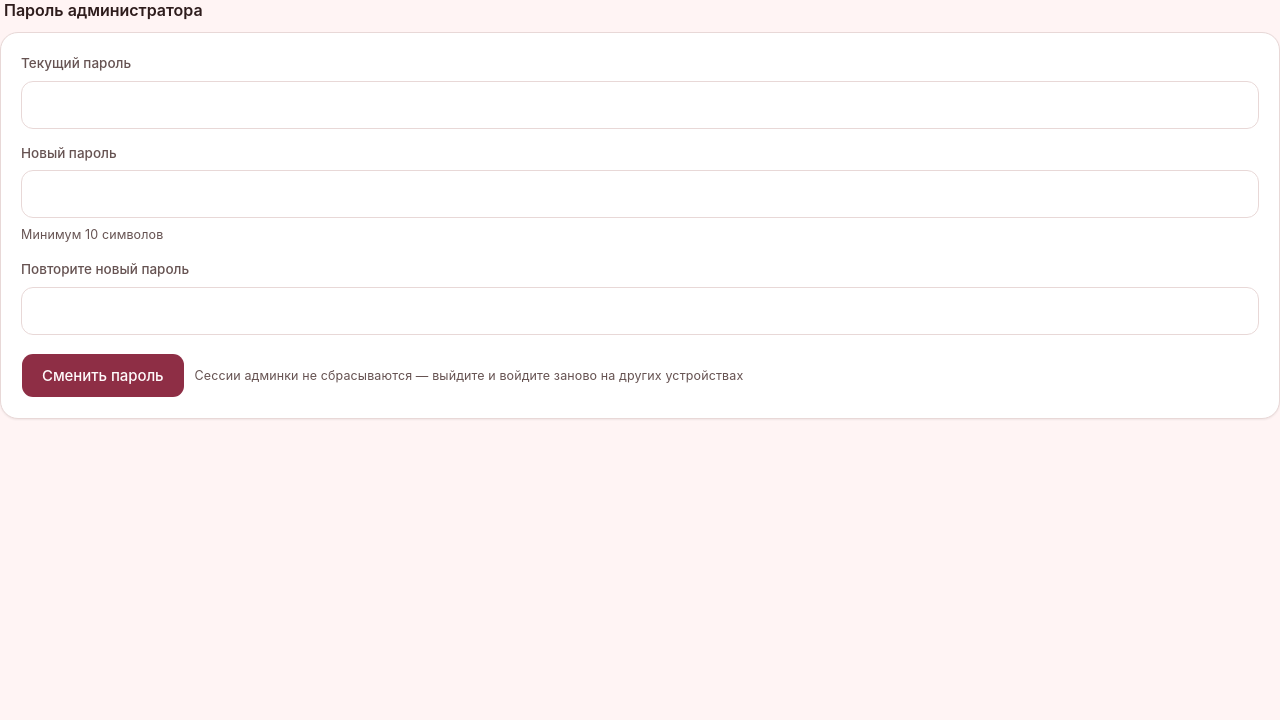
Test case: AdminPasswordForm › sends both passwords and confirms with a toast
Step 1. Type "the-current-one" into the password field labelled "Текущий пароль" → (640, 104), box [21,80,1259,128]
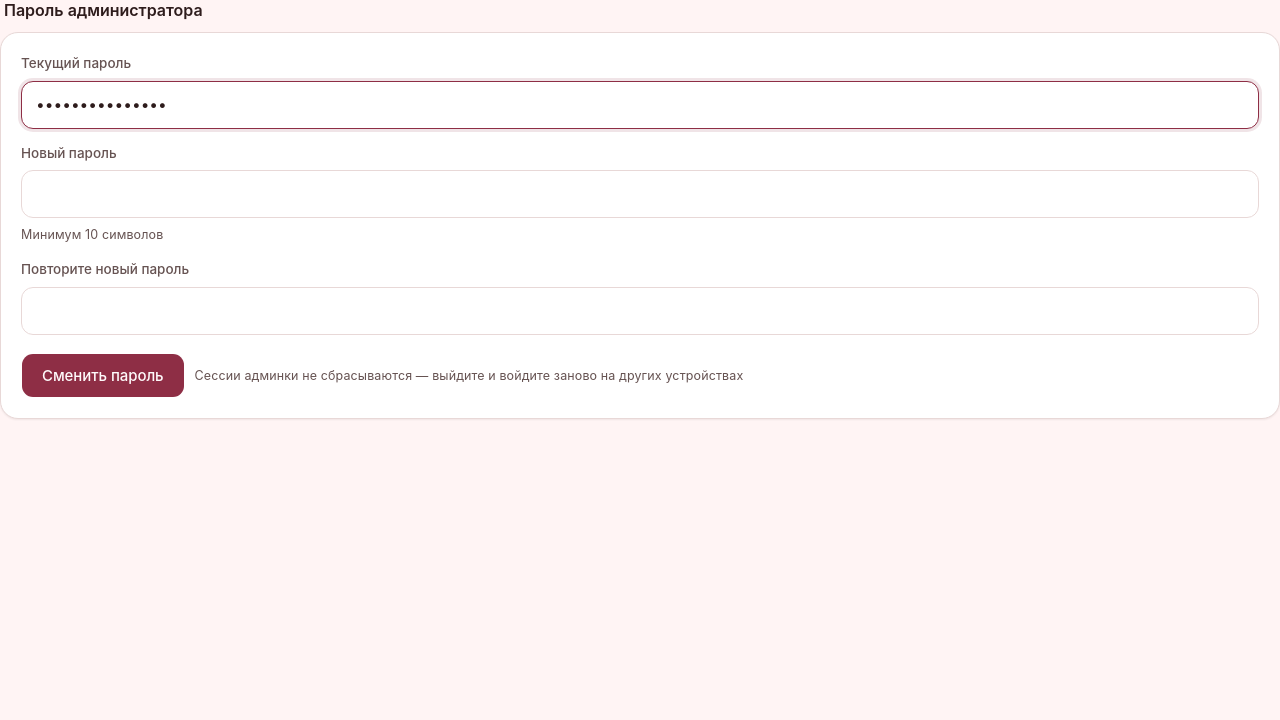
Step 2. Type "a-brand-new-password" into the password field labelled "Новый пароль" → (640, 194), box [21,170,1259,218]
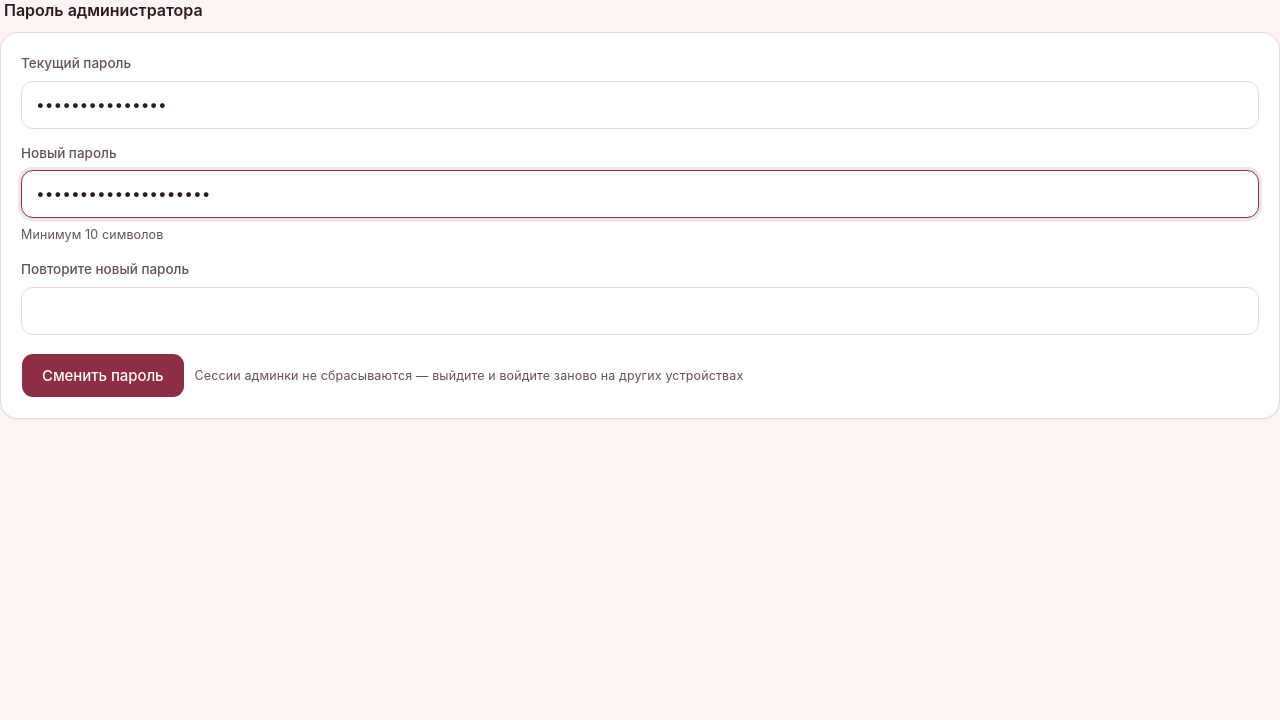
Step 3. Type "a-brand-new-password" into the password field labelled "Повторите новый пароль" → (640, 311), box [21,287,1259,335]
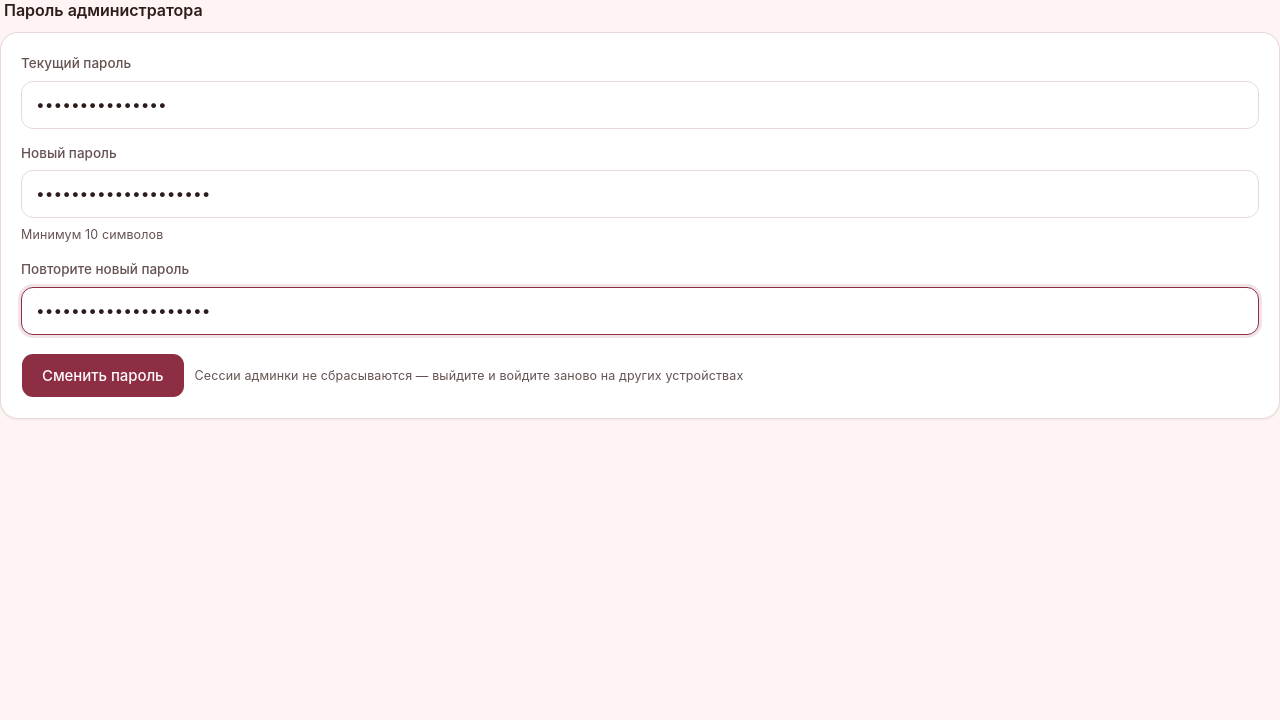
Step 4. Click the button "Сменить пароль" → (103, 375), box [21,353,185,398]
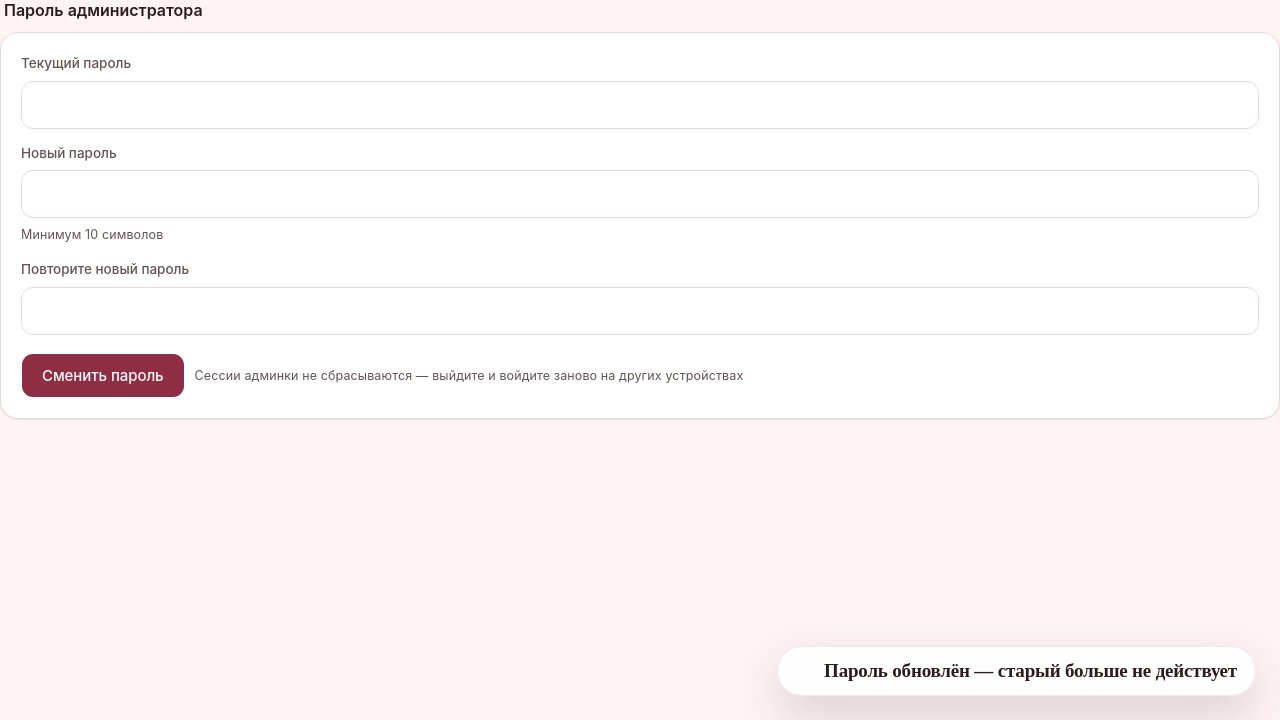
Expected: the heading "Пароль обновлён — старый больше не действует" is shown, [824,659,1237,683]
